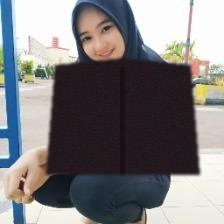Cadar_Niqab: (46, 0, 200, 174)
